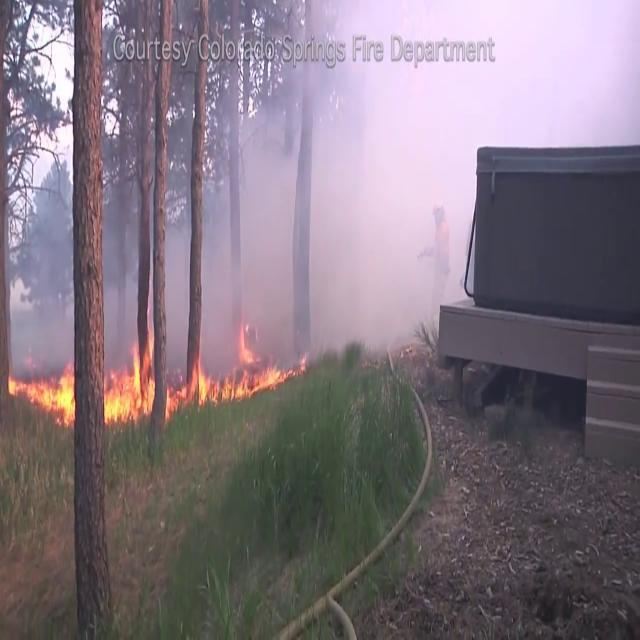Fire: (173, 329, 297, 422), (102, 322, 158, 430), (6, 355, 76, 425)
Smoke: (198, 0, 448, 360)
